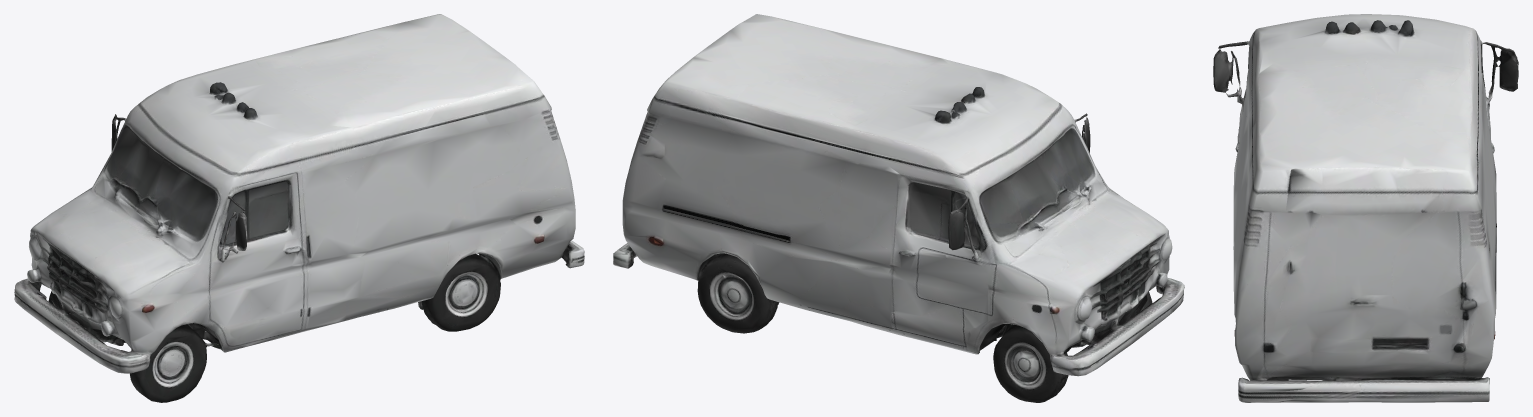
File: van.glb
3 renders of one model, left to right at view 1: azimuth 30°, elevation 25°; view 2: azimuth 150°, elevation 25°; view 3: azimuth 270°, elevation 25°, orthographic. The views are drawn at different scales.
Size of the model in its own units: 2 by 0.9974 by 1.01.
1 material, 1 textured.
